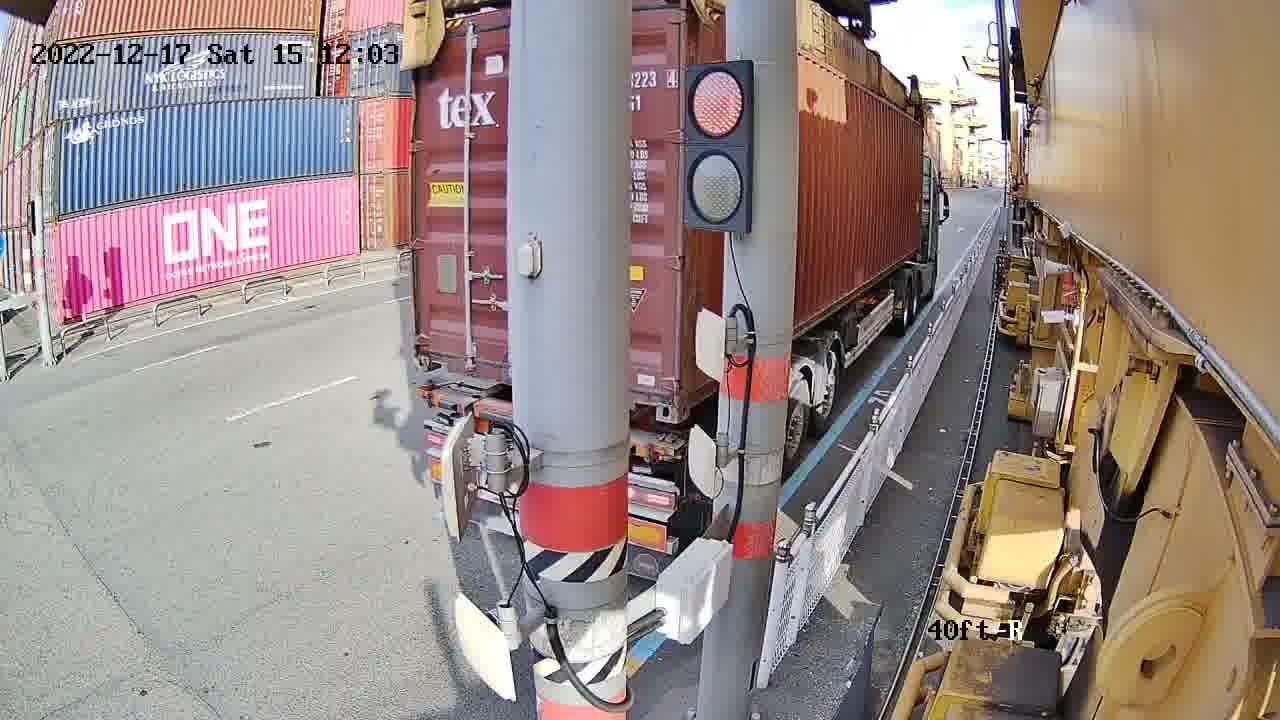Cone: (654, 431, 683, 459)
Hole_L: (677, 364, 702, 427)
Hole_R: (636, 377, 676, 425)
